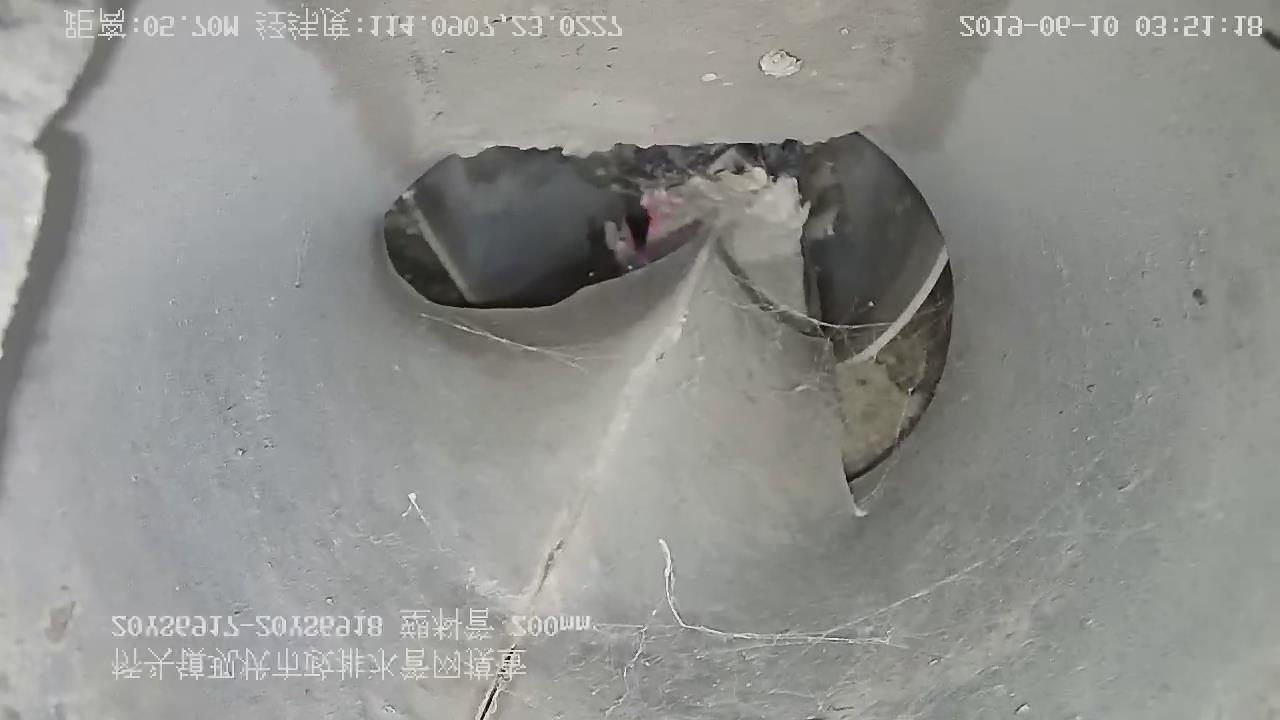PL: (303, 101, 988, 552)
